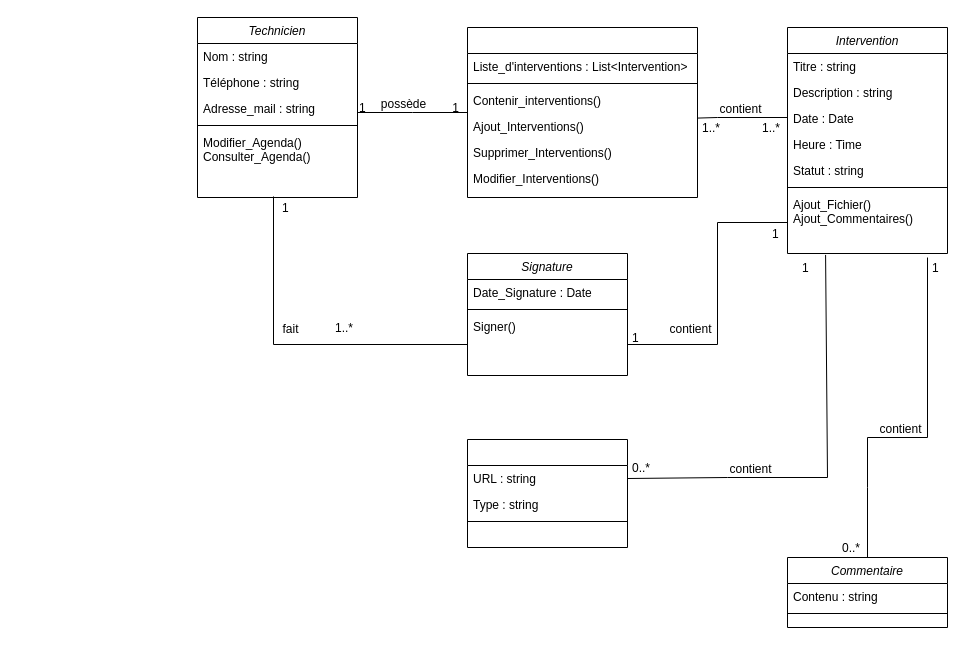
The diagram is 965 pixels wide and 645 high, and some of its shapes have lost their labels. Here are the shapes that lost their labels. From the top down, the box of each, then its label:
(466, 26, 698, 198): Agenda
(466, 438, 628, 548): Fichier
